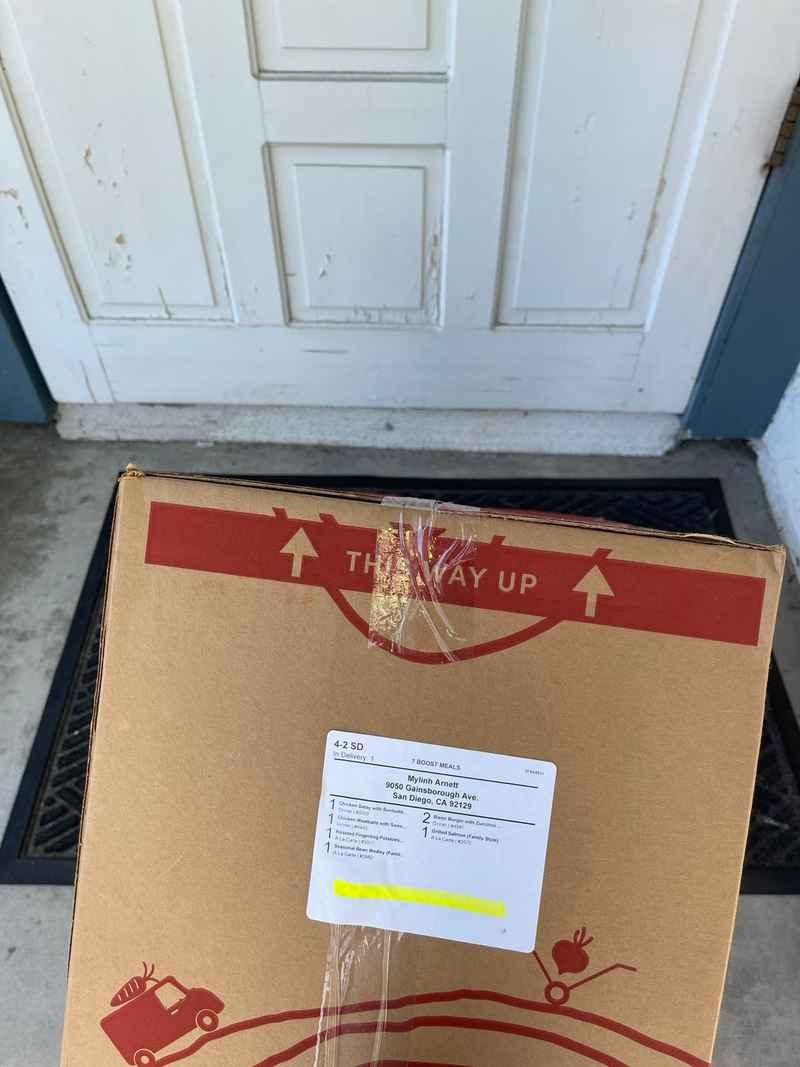package: (47, 467, 800, 1066)
